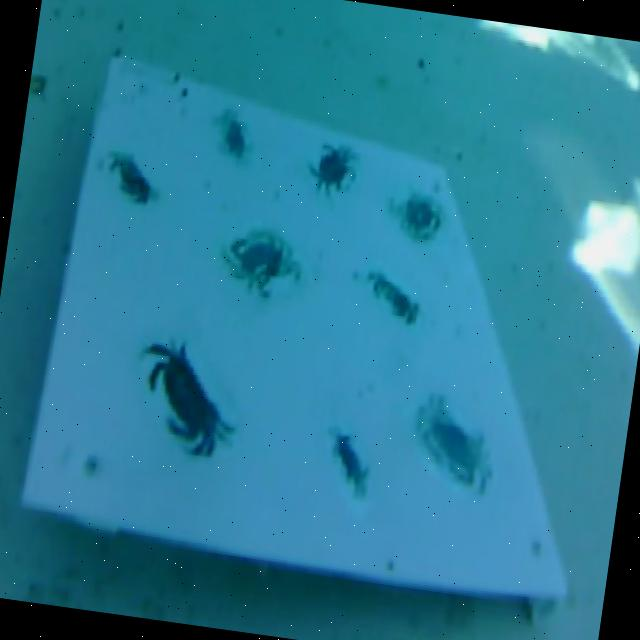green_crab: (333, 427, 367, 493), (310, 145, 353, 187), (214, 113, 248, 161)
jonah_crab: (415, 395, 492, 492), (222, 230, 299, 297), (390, 192, 444, 241)
rock_crab: (142, 343, 235, 455), (370, 272, 418, 316), (110, 153, 153, 199)
